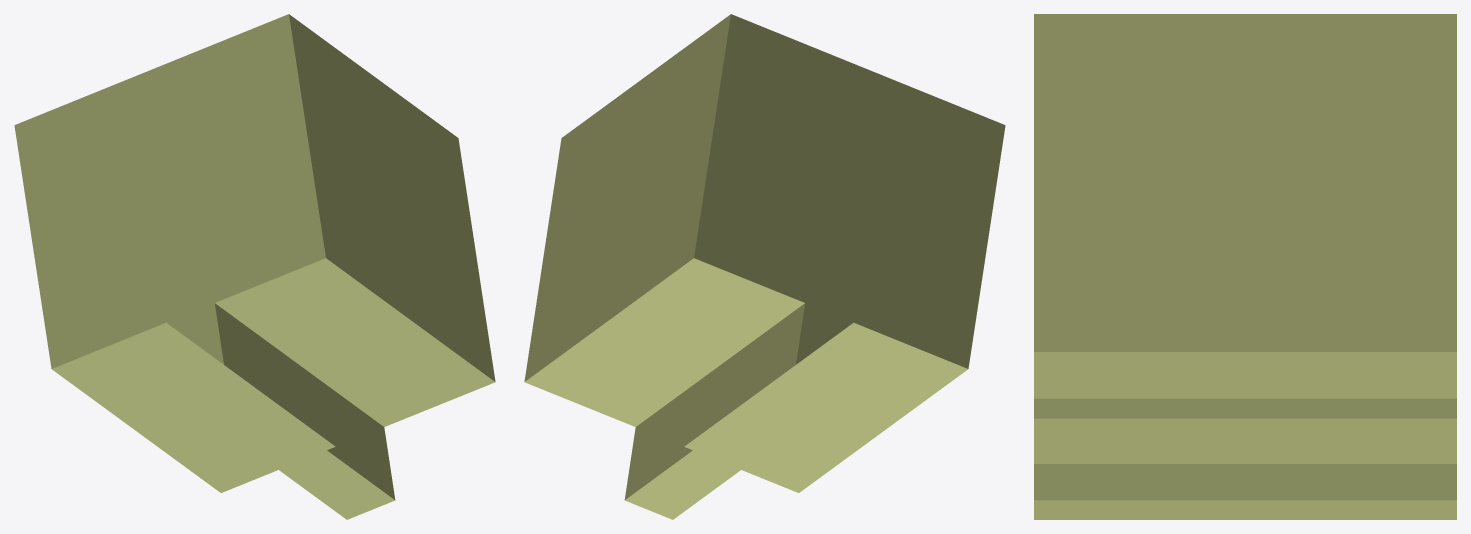
The picture shows the model from 3 angles, left to right: view 1: azimuth 30°, elevation 25°; view 2: azimuth 150°, elevation 25°; view 3: azimuth 270°, elevation 25°; orthographic projection. The views are drawn at different scales.
Visible parts, largest first — view 1: 0_1_2_0_3_1_3_2_1_2_1; view 2: 0_1_2_0_3_1_3_2_1_2_1; view 3: 0_1_2_0_3_1_3_2_1_2_1.
Part boxes in pixels (bbox=[...]): 0_1_2_0_3_1_3_2_1_2_1: bbox=[14, 14, 495, 519]; 0_1_2_0_3_1_3_2_1_2_1: bbox=[524, 14, 1005, 519]; 0_1_2_0_3_1_3_2_1_2_1: bbox=[1034, 14, 1456, 519].
Size of the model in its own units: 6.37 by 6.92 by 6.
